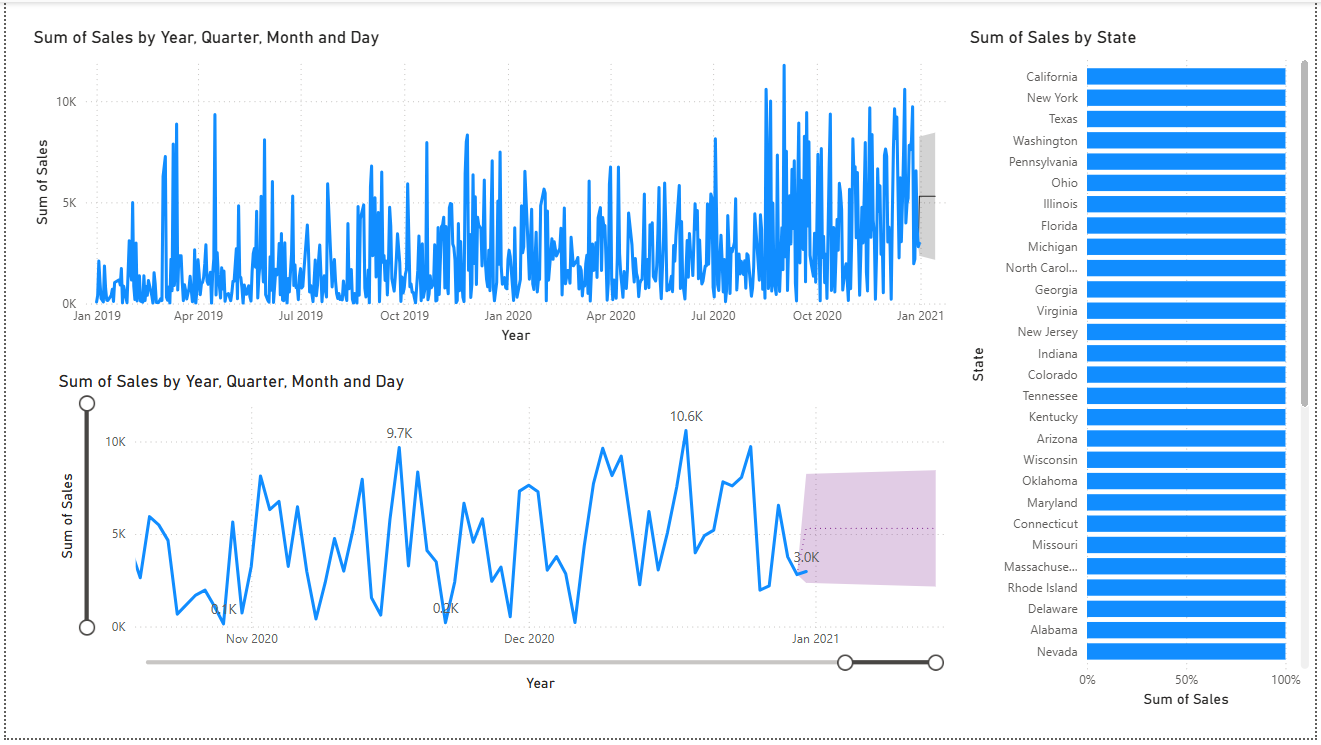

This screenshot's page, from the dashboard's own definition file:
{"tool":"powerbi","page":{"name":"Page 2","canvas":[1280,720],"ordinal":1},"visuals":[{"type":"lineChart","fields":{"Category":["SuperStore_Sales_Dataset.Order Date.Variation.Date Hierarchy.Year","SuperStore_Sales_Dataset.Order Date.Variation.Date Hierarchy.Quarter","SuperStore_Sales_Dataset.Order Date.Variation.Date Hierarchy.Month","SuperStore_Sales_Dataset.Order Date.Variation.Date Hierarchy.Day"],"Y":["Sum(SuperStore_Sales_Dataset.Sales)"]},"box":[21.6,24.5,916.2,314.5],"z":0},{"type":"lineChart","fields":{"Category":["SuperStore_Sales_Dataset.Order Date.Variation.Date Hierarchy.Year","SuperStore_Sales_Dataset.Order Date.Variation.Date Hierarchy.Quarter","SuperStore_Sales_Dataset.Order Date.Variation.Date Hierarchy.Month","SuperStore_Sales_Dataset.Order Date.Variation.Date Hierarchy.Day"],"Y":["Sum(SuperStore_Sales_Dataset.Sales)"]},"box":[46.2,360.7,891.6,317.4],"z":1000},{"type":"hundredPercentStackedBarChart","fields":{"Category":["SuperStore_Sales_Dataset.State"],"Y":["Sum(SuperStore_Sales_Dataset.Sales)"]},"box":[937.8,24.5,341.9,670.9],"z":1001}]}

Visuals, with their boxes in screenshot pixels (x1, y1, x2, y2), scaled from the page's 1280x720 canvas onto the 1321x745 screenshot:
lineChart - SuperStore_Sales_Dataset.Order Date.Variation.Date Hierarchy.Year x SuperStore_Sales_Dataset.Order Date.Variation.Date Hierarchy.Quarter: bbox=(22, 25, 968, 351)
lineChart - SuperStore_Sales_Dataset.Order Date.Variation.Date Hierarchy.Year x SuperStore_Sales_Dataset.Order Date.Variation.Date Hierarchy.Quarter: bbox=(48, 373, 968, 702)
hundredPercentStackedBarChart - SuperStore_Sales_Dataset.State x Sum(SuperStore_Sales_Dataset.Sales): bbox=(968, 25, 1320, 720)
